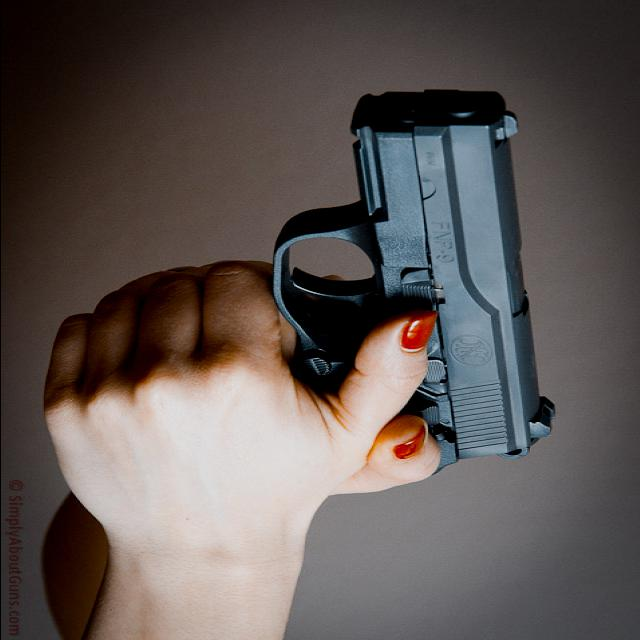handgun: (226, 75, 586, 473)
